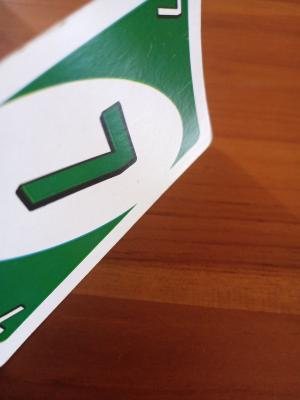green: (21, 69, 193, 176)
num_7: (149, 0, 187, 20)
